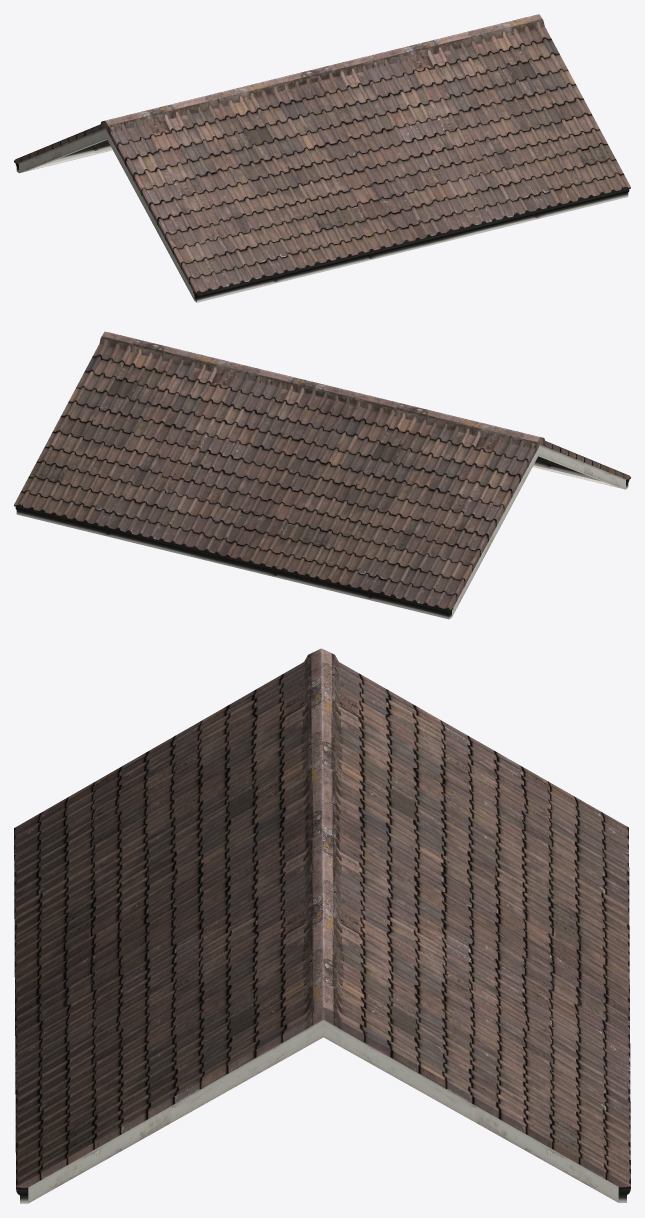
The model's file is Roof.fbx.
3 renders of one model, top to bottom at view 1: azimuth 30°, elevation 25°; view 2: azimuth 150°, elevation 25°; view 3: azimuth 270°, elevation 25°, orthographic. The views are drawn at different scales.
Visible parts, largest first — view 1: Roof_Tiles_B, Guttering_B, Guttering_A; view 2: Roof_Tiles_A, Guttering_A, Guttering_B; view 3: Roof_Tiles_B, Roof_Tiles_A, Guttering_B, Guttering_A.
Boxes of the visible parts, x1=… form: Roof_Tiles_B: x1=105, y1=14, x2=630, y2=294; Guttering_B: x1=105, y1=121, x2=629, y2=302; Guttering_A: x1=14, y1=121, x2=112, y2=173; Roof_Tiles_A: x1=14, y1=331, x2=540, y2=611; Guttering_A: x1=15, y1=438, x2=540, y2=619; Guttering_B: x1=533, y1=437, x2=630, y2=489; Roof_Tiles_B: x1=14, y1=649, x2=323, y2=1186; Roof_Tiles_A: x1=321, y1=648, x2=630, y2=1186; Guttering_B: x1=16, y1=1007, x2=323, y2=1203; Guttering_A: x1=323, y1=1007, x2=630, y2=1202.
Size of the model in its own units: 1458 by 373 by 1058.
